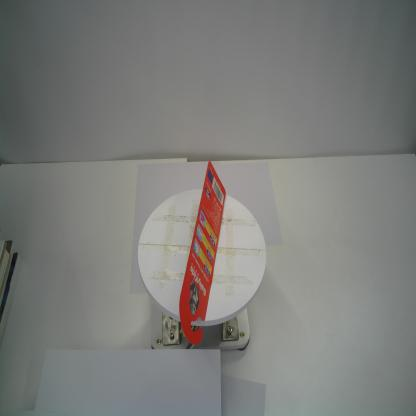Personal Hygiene: (178, 160, 225, 345)
